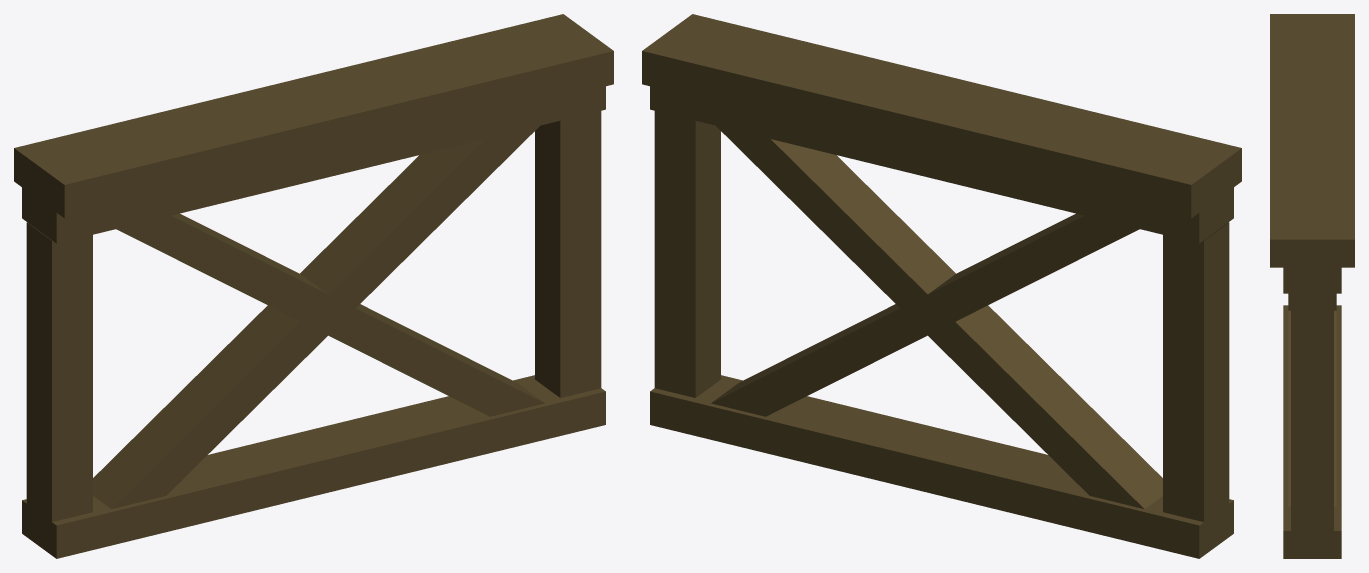
The model's file is Cerca.fbx.
3 views of the same model, side by side, from view 1: azimuth 30°, elevation 25°; view 2: azimuth 150°, elevation 25°; view 3: azimuth 270°, elevation 25° (orthographic). The views are drawn at different scales.
Visible parts, largest first — view 1: Passarela.001; view 2: Passarela.001; view 3: Passarela.001.
Boxes of the visible parts, left/top/right/bottom form: Passarela.001: left=14, top=14, right=613, bottom=558; Passarela.001: left=642, top=14, right=1241, bottom=558; Passarela.001: left=1270, top=14, right=1354, bottom=558.
Bounding box in the file's own units: 139 × 91.9 × 22.13.
